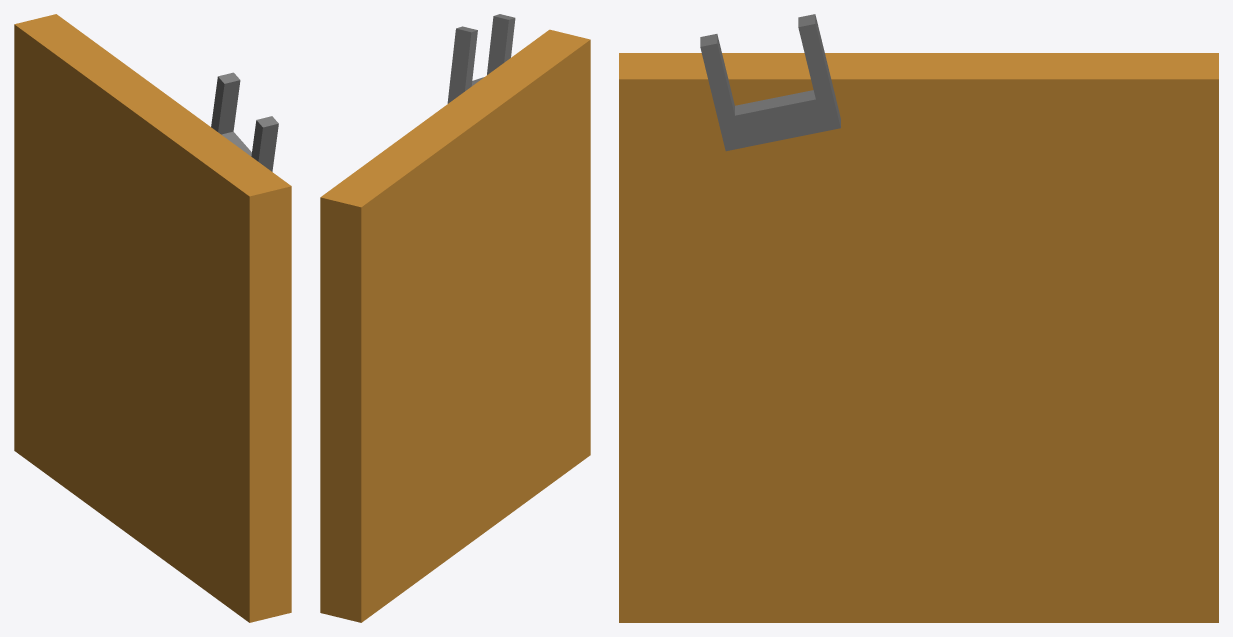
The model's file is post-it-b.glb.
3 renders of one model, left to right at view 1: azimuth 30°, elevation 25°; view 2: azimuth 150°, elevation 25°; view 3: azimuth 270°, elevation 25°, orthographic. The views are drawn at different scales.
Parts seen in each view (by area): view 1: Cube, Cube.001; view 2: Cube, Cube.001; view 3: Cube, Cube.001.
Boxes of the visible parts, x1,y1,x2,y2 form: Cube: (14, 14, 291, 622); Cube.001: (211, 72, 278, 171); Cube: (320, 29, 590, 622); Cube.001: (447, 14, 515, 103); Cube: (619, 53, 1218, 622); Cube.001: (700, 14, 840, 151).
Bounding box in the file's own units: 0.3005 × 2.25 × 2.
